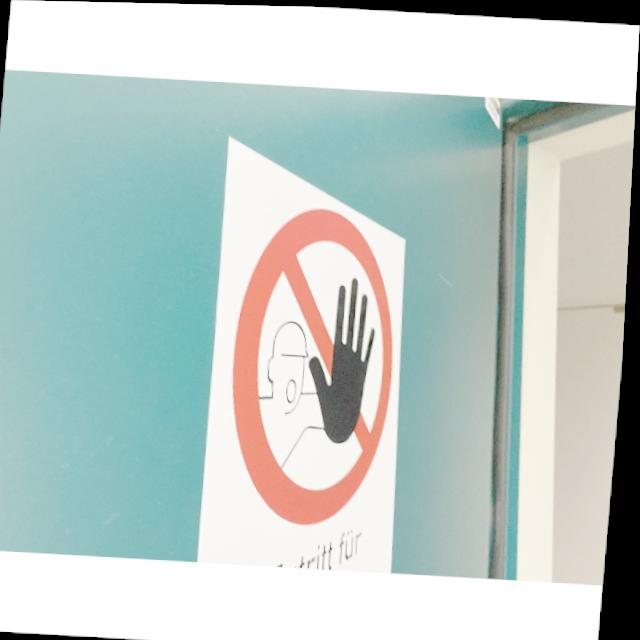No access for unauthorized persons: (223, 200, 409, 528)
